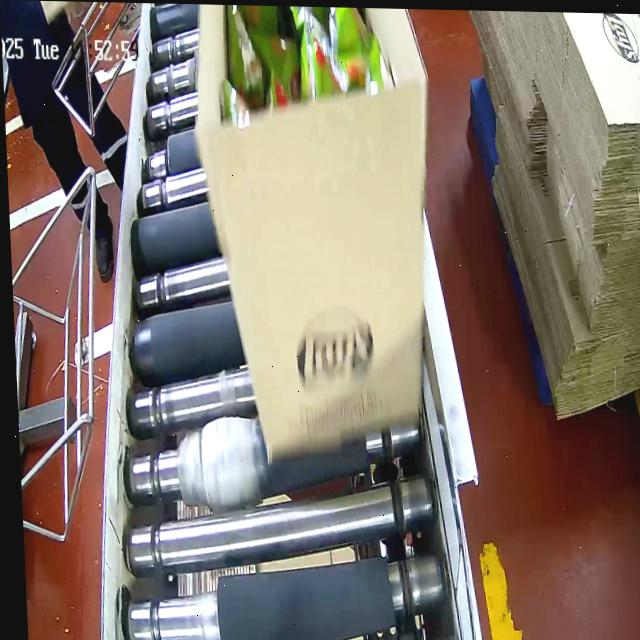YOGURT_HERB: (222, 5, 392, 119)
